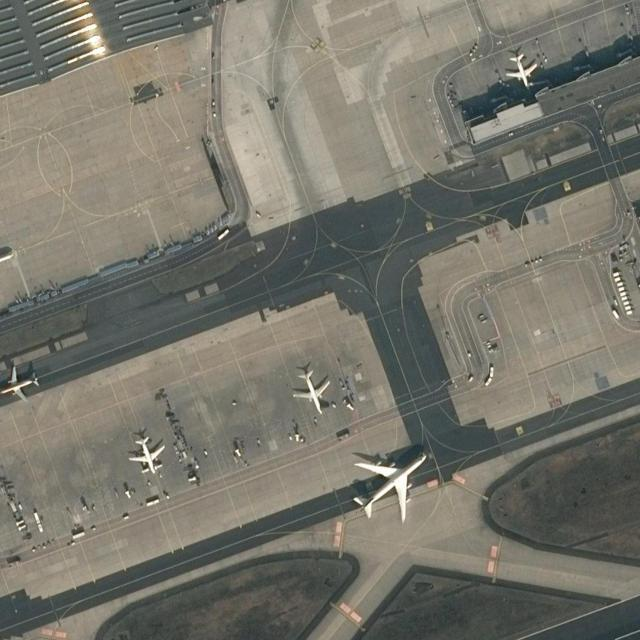Aircraft: (344, 445, 430, 521), (286, 367, 331, 416), (0, 363, 44, 404), (123, 432, 165, 474), (503, 49, 541, 91)
